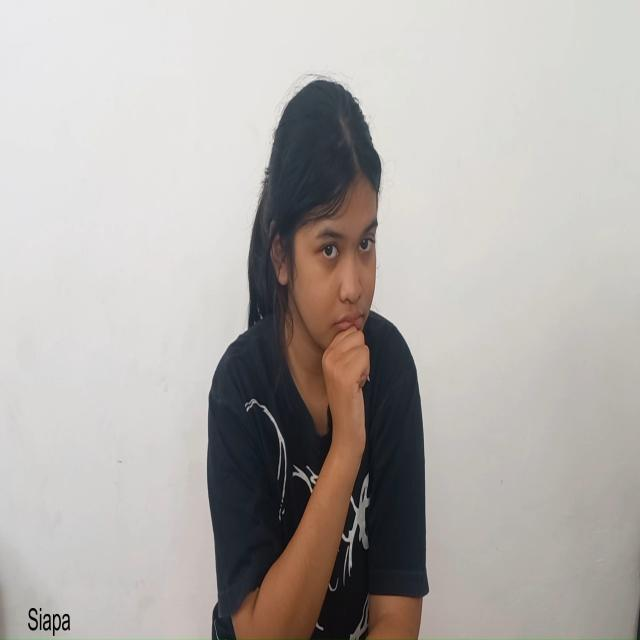Siapa -BISINDO-: (250, 72, 390, 424)
